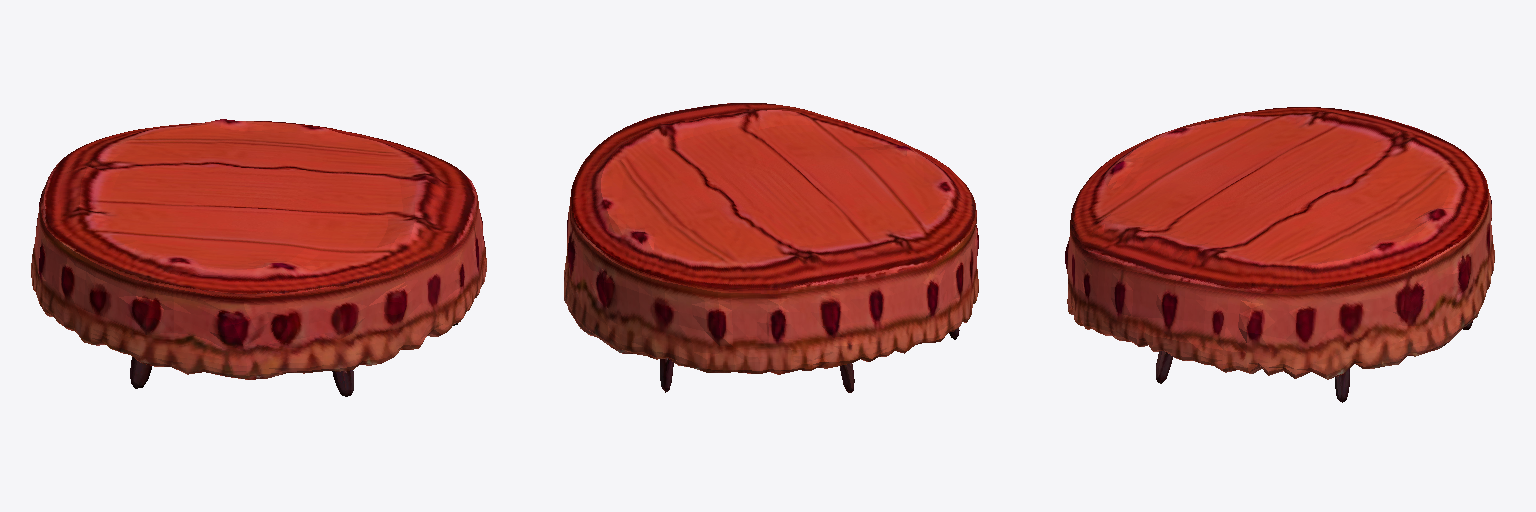
3 renders of one model, left to right at view 1: azimuth 30°, elevation 25°; view 2: azimuth 150°, elevation 25°; view 3: azimuth 270°, elevation 25°, orthographic.
Parts seen in each view (by area): view 1: mesa:Mesh; view 2: mesa:Mesh; view 3: mesa:Mesh.
Boxes of the visible parts, <box> form: mesa:Mesh: <box>31,119,486,396</box>; mesa:Mesh: <box>564,103,978,392</box>; mesa:Mesh: <box>1065,107,1494,402</box>.
Size of the model in its own units: 4.4 by 1.55 by 4.22.
Materials: 1 (1 with a texture image).